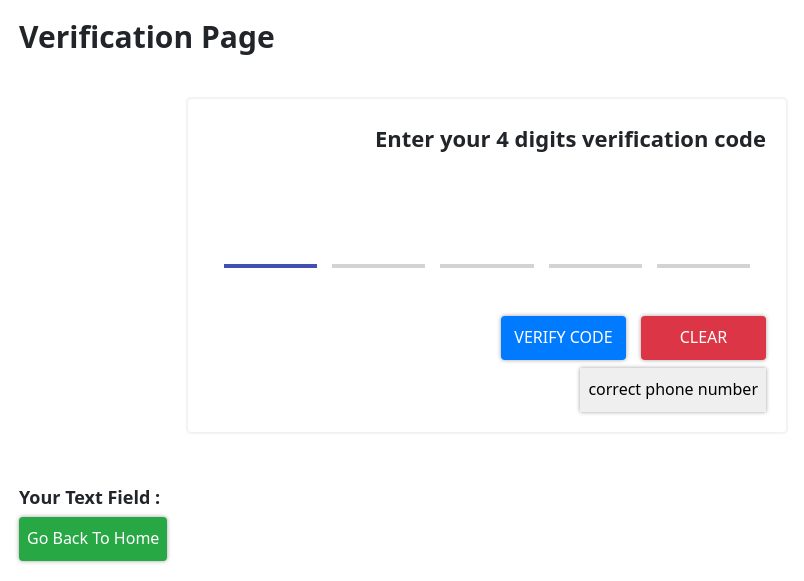
Test: Verification Page Test › Should be navigations to `home page`, when user click to the `Go Back To Home` button
The image size is (804, 581).
Click the button with class "btn-back" at (93, 539), box left=19, top=517, right=167, bottom=561
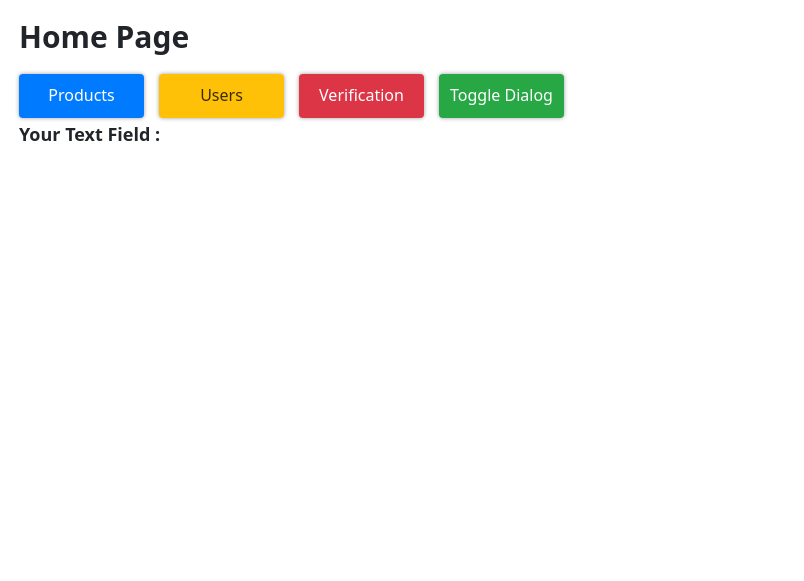
Now the text "Home Page" is shown, box left=19, top=16, right=189, bottom=57
